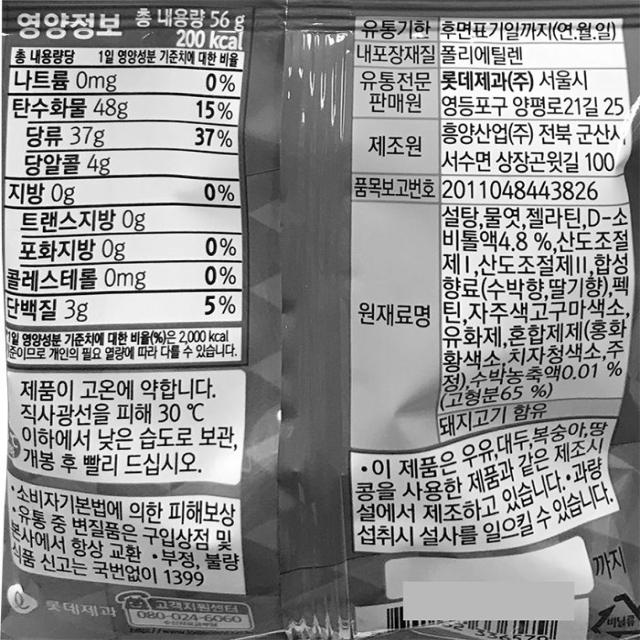Nutrition Label: (0, 3, 265, 375)
